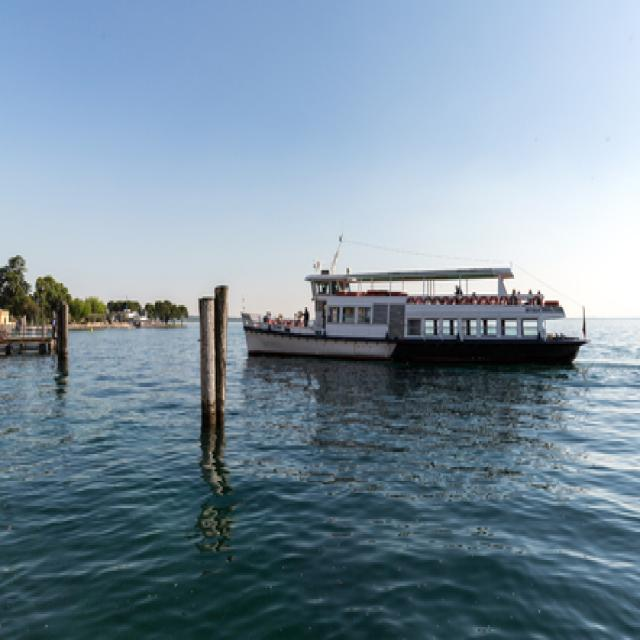passenger ship: (239, 250, 585, 370)
